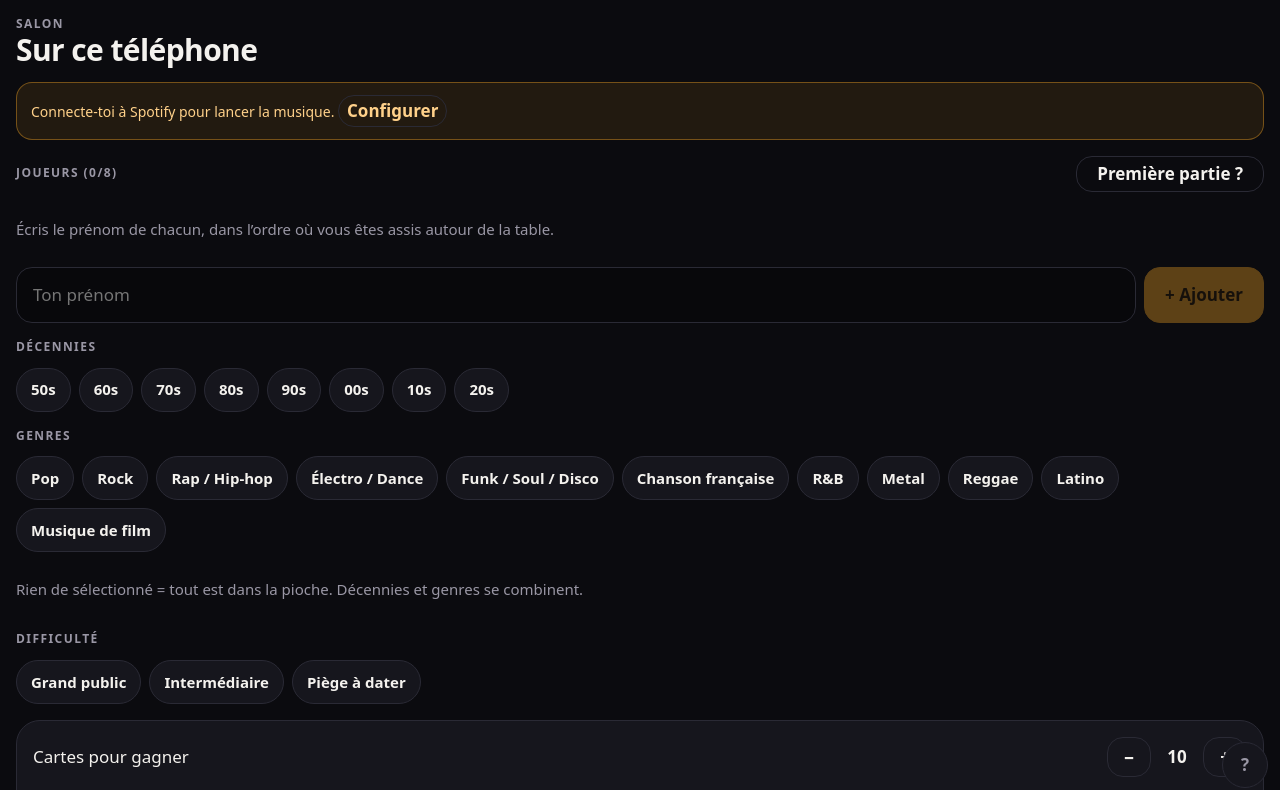
Test: a table sharing one phone › lets a seat be removed and the name reused
The width and height of the screenshot is (1280, 790).
In the field named "Prénom du joueur à ajouter": coordinates (576, 295) [16,267,1136,323], type "Alex"
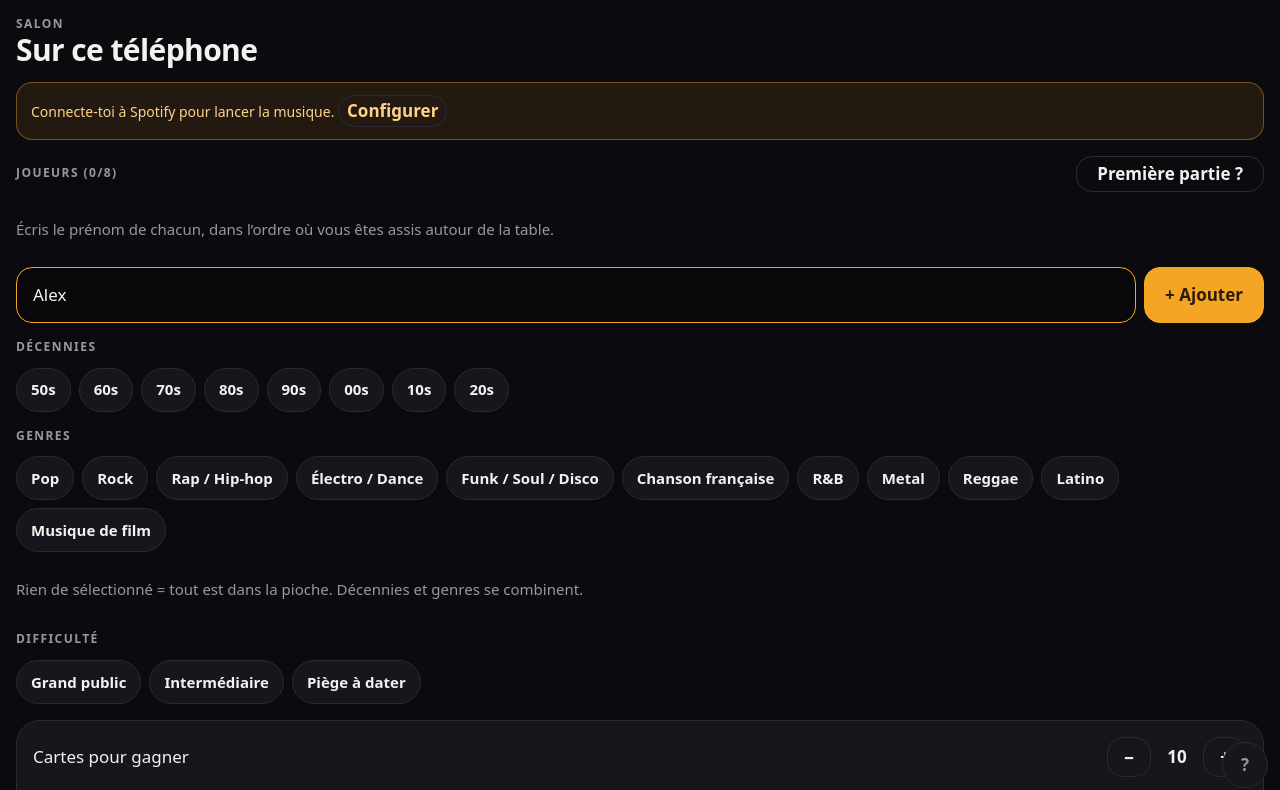
Click the button "+ Ajouter": coordinates (1204, 295) [1144,267,1264,323]
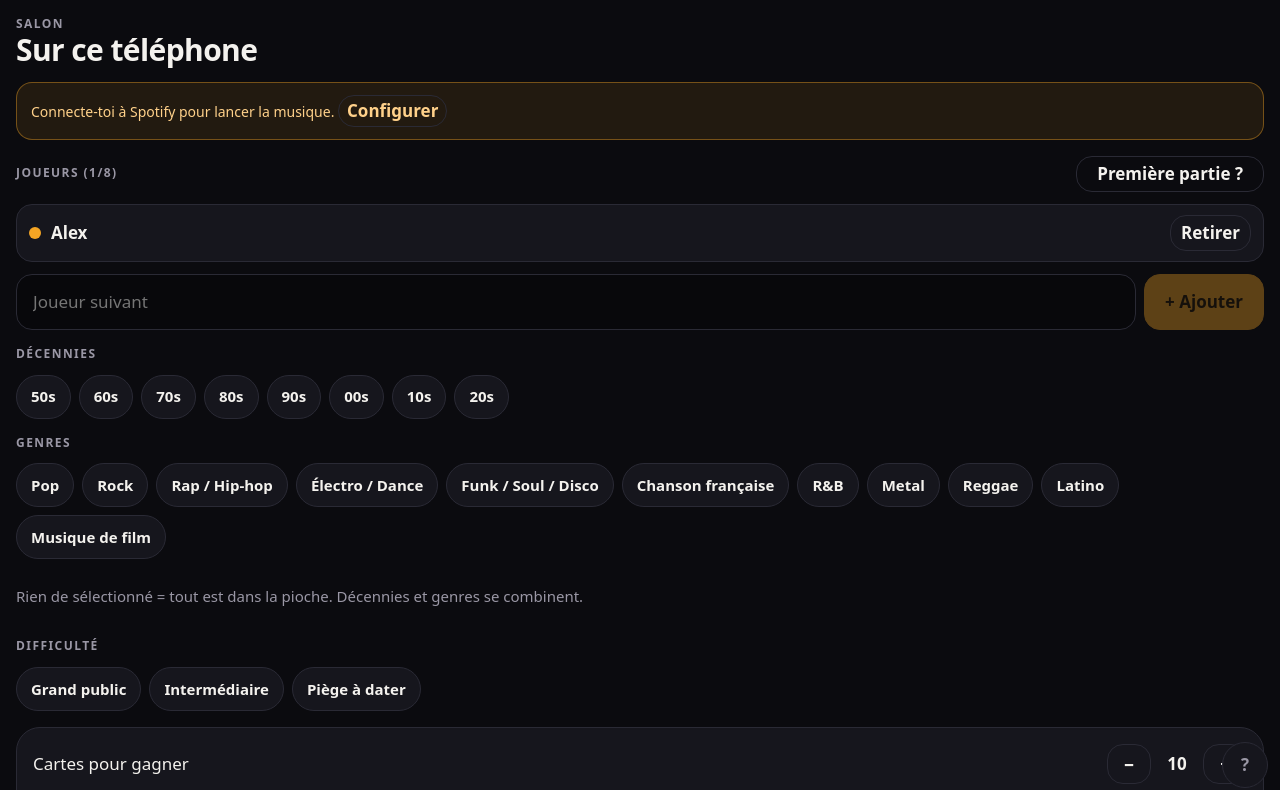
Click the button "Retirer": coordinates (1210, 233) [1170,215,1251,251]
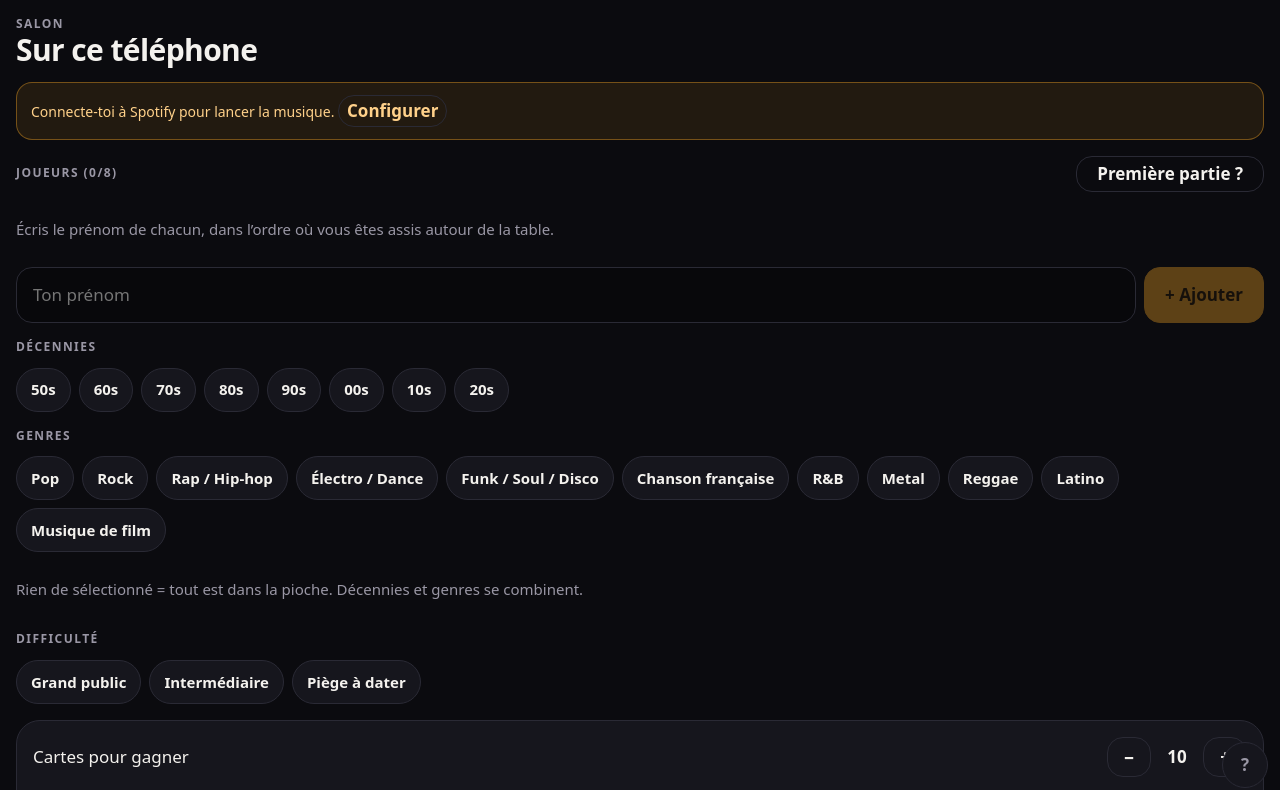
Now the text "Alex" is gone
In the field named "Prénom du joueur à ajouter": coordinates (576, 295) [16,267,1136,323], type "Alex"
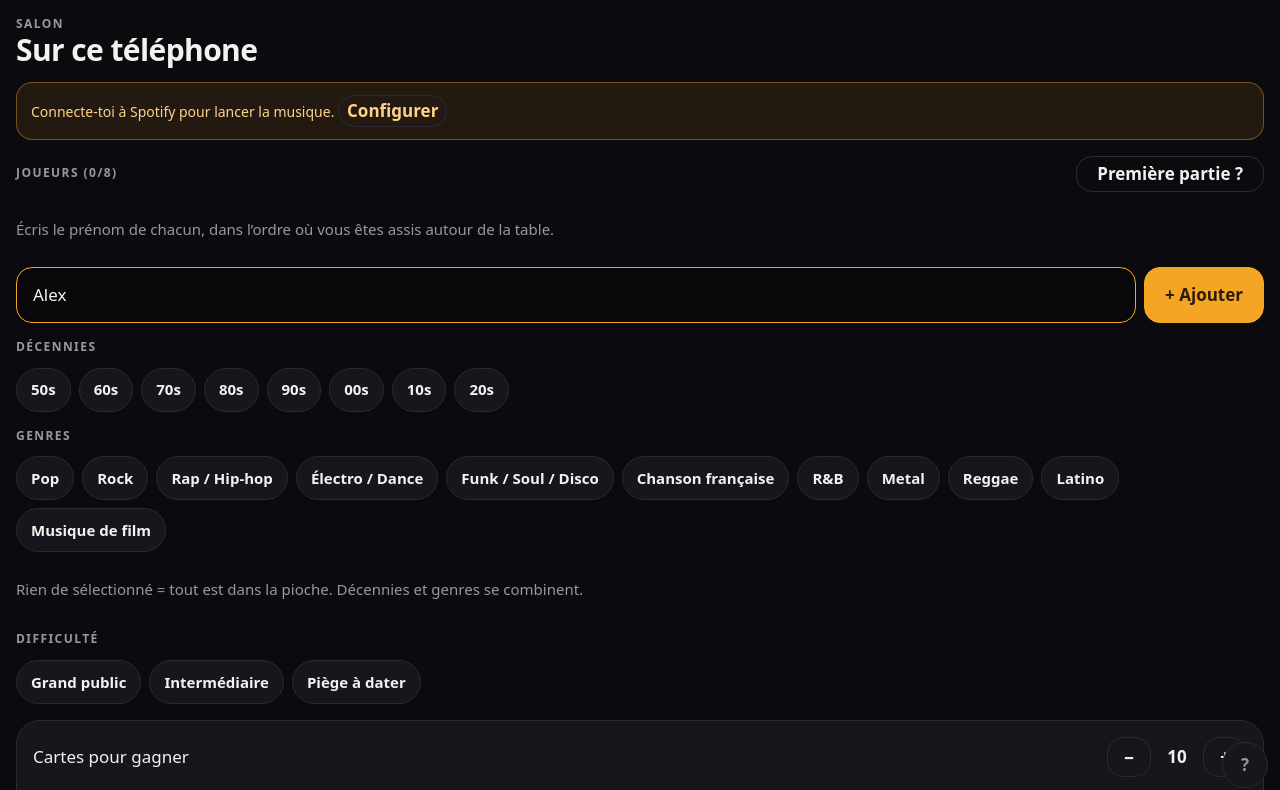
Click the button "+ Ajouter": coordinates (1204, 295) [1144,267,1264,323]
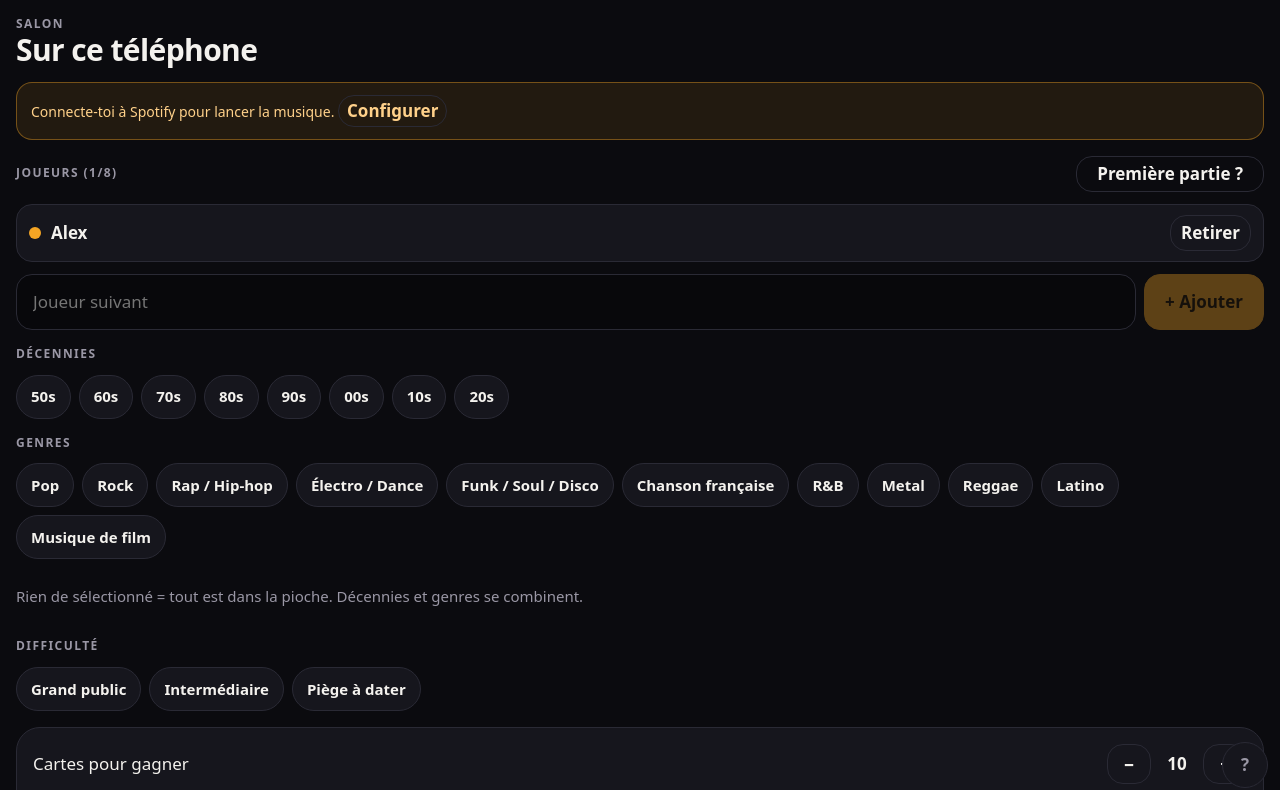
Now the text "Alex" is shown, box [51,221,88,244]
